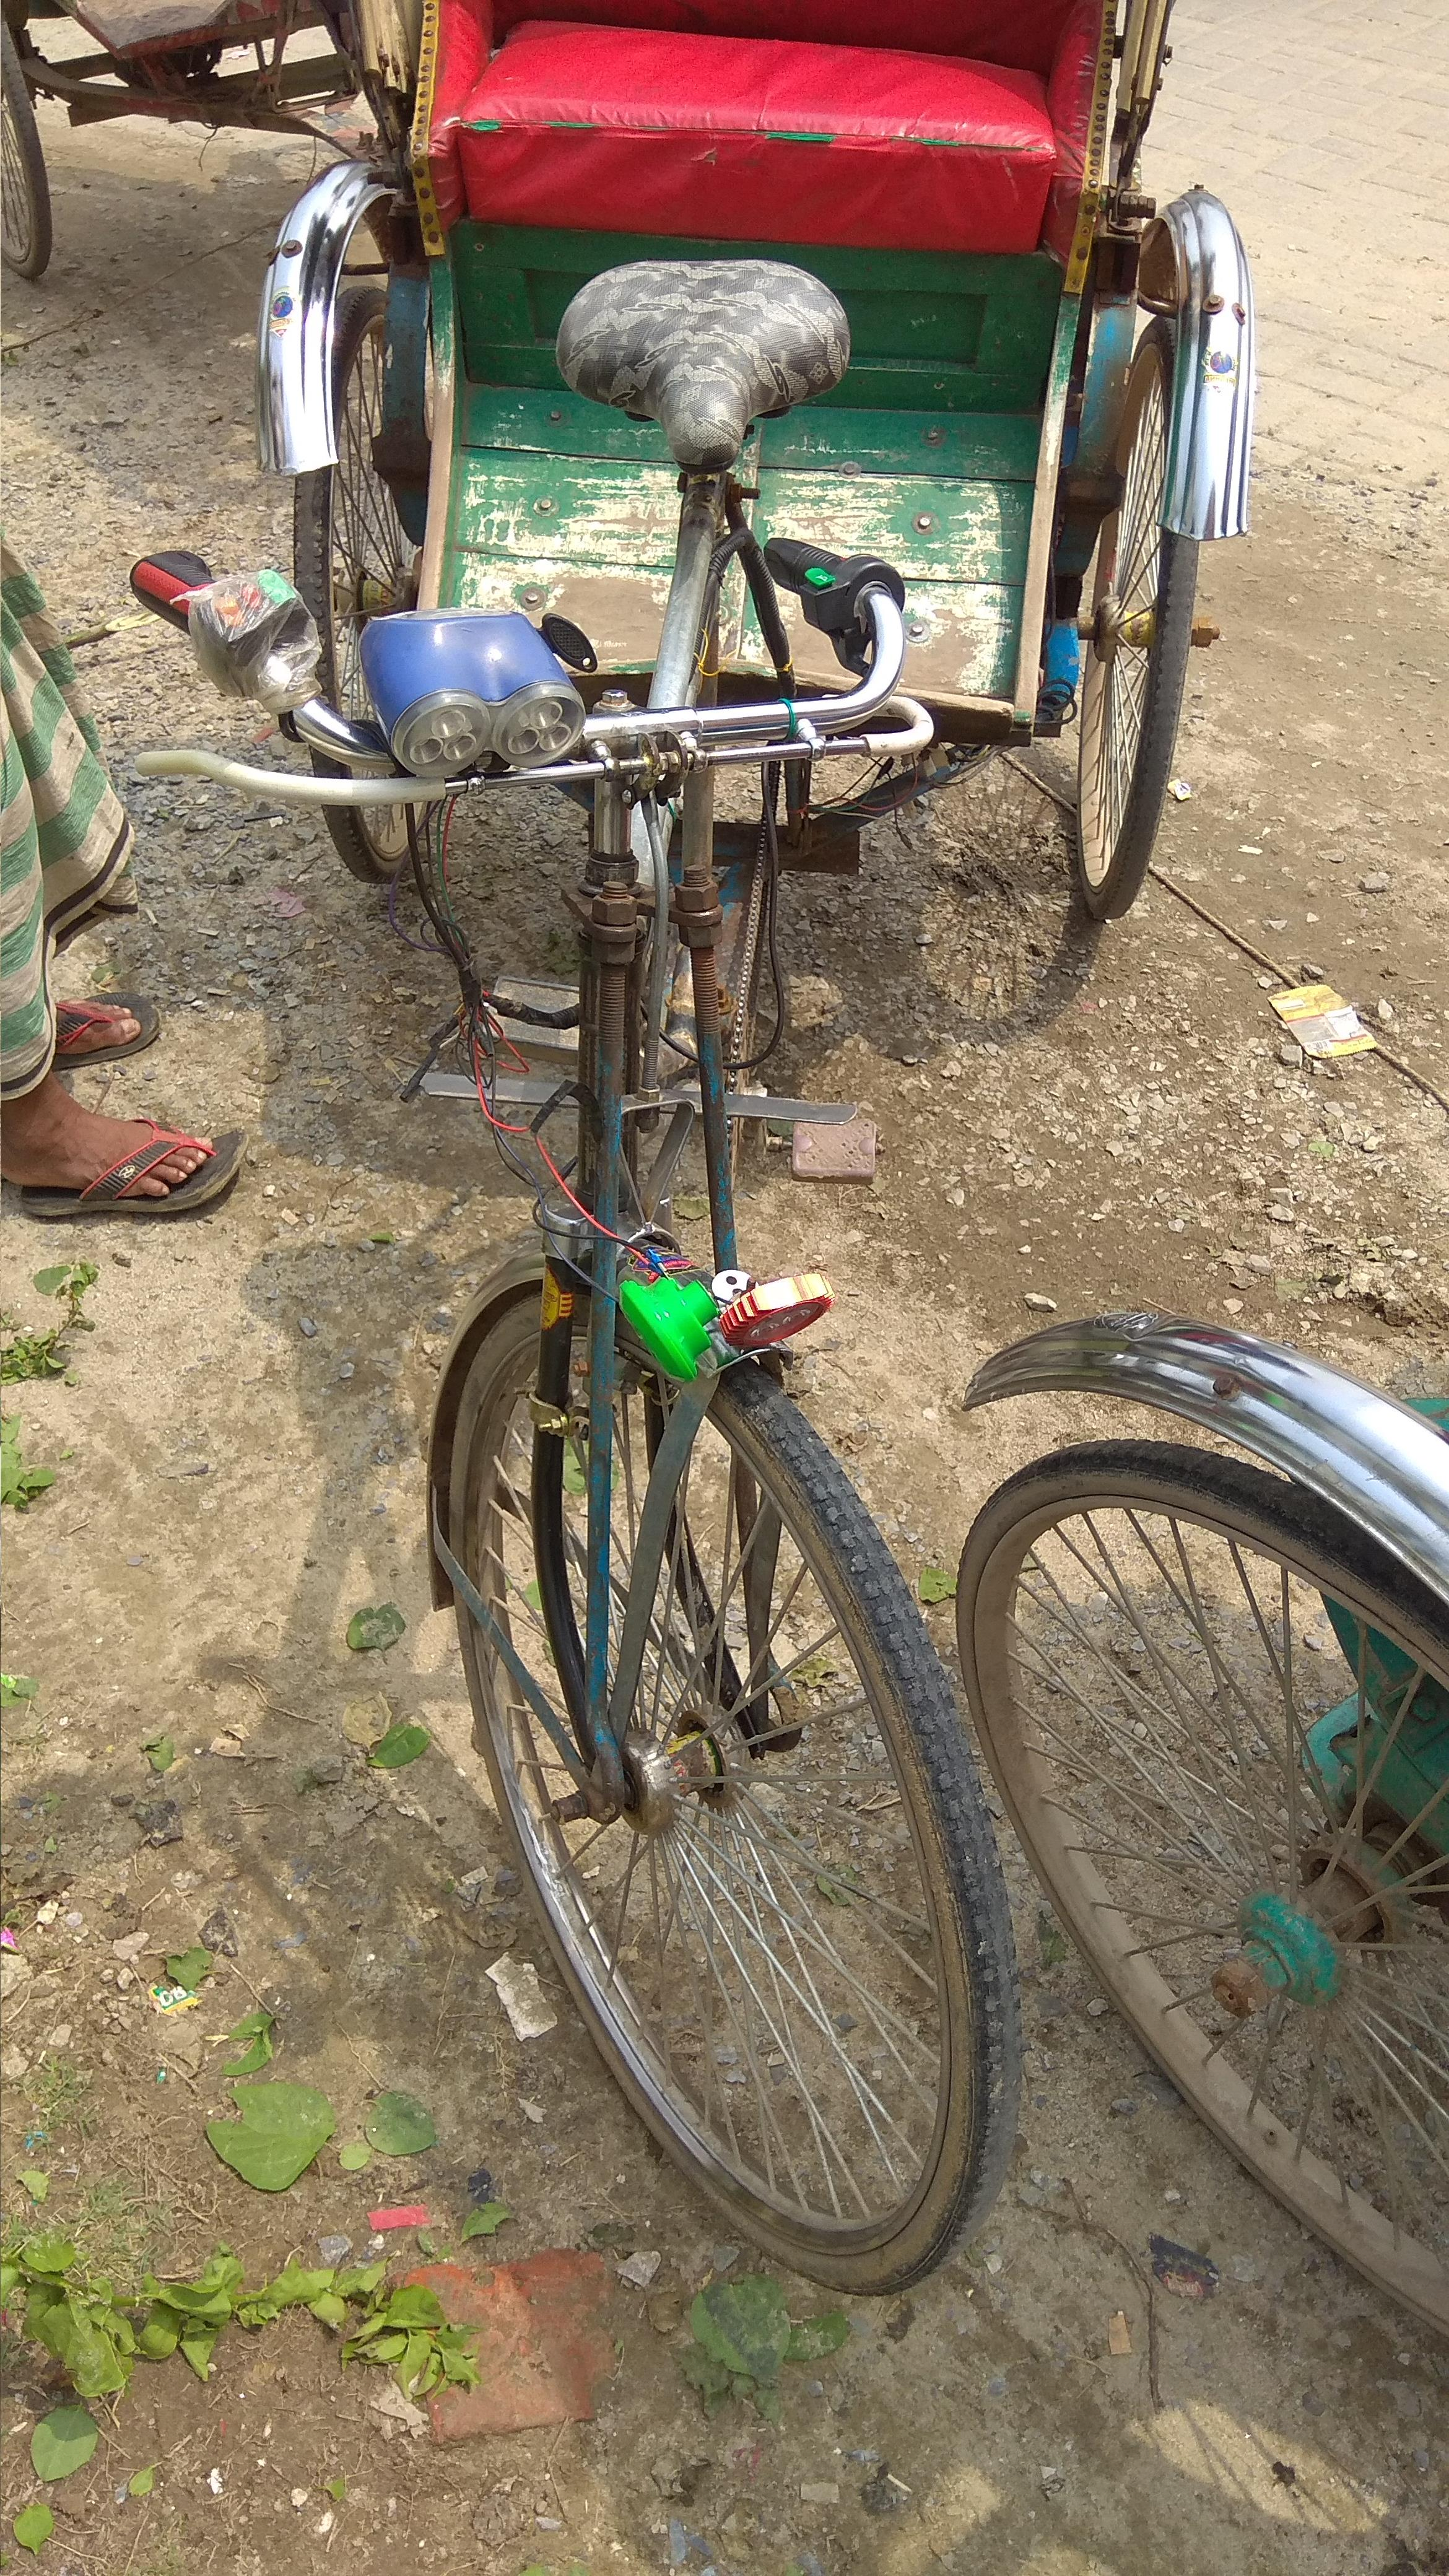Rickshaw: (257, 25, 1226, 2341)
